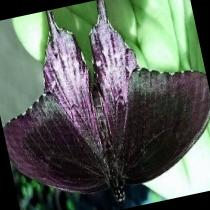butterfly: (3, 0, 210, 198)
